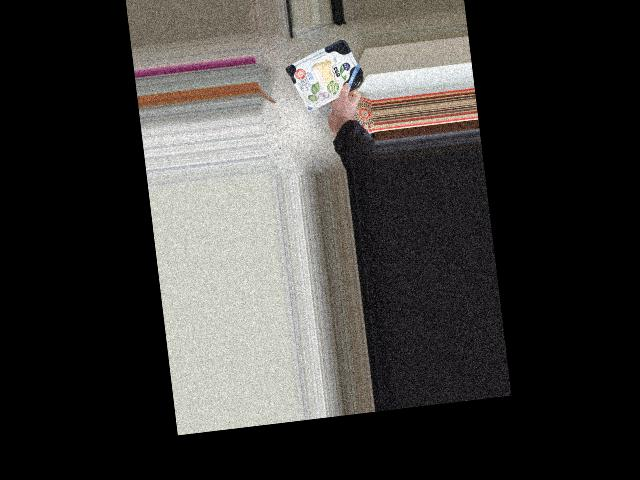cheese: (292, 51, 357, 106)
